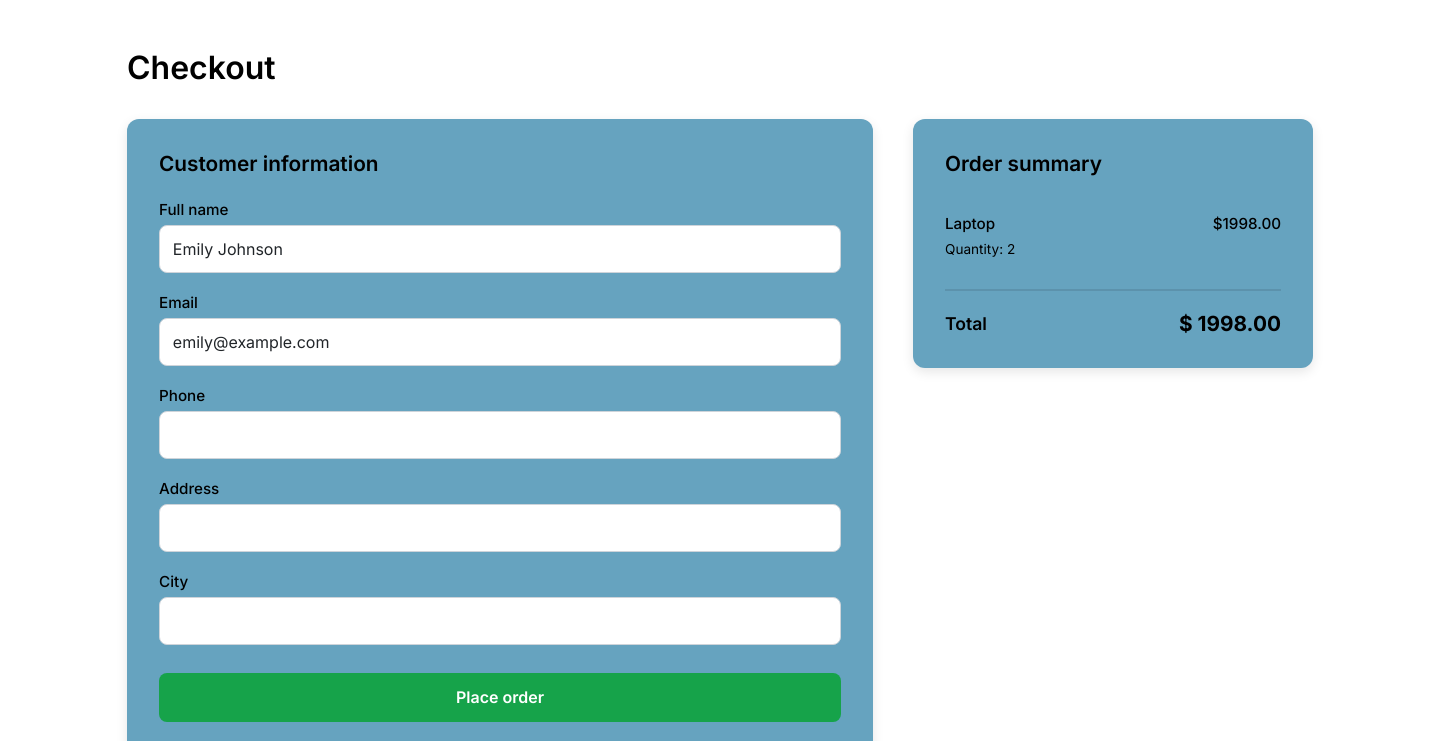
Test: Checkout › clears the validation error when the user changes a field
Clear the field labelled "Full name" at (500, 249), box [159,225,841,273]
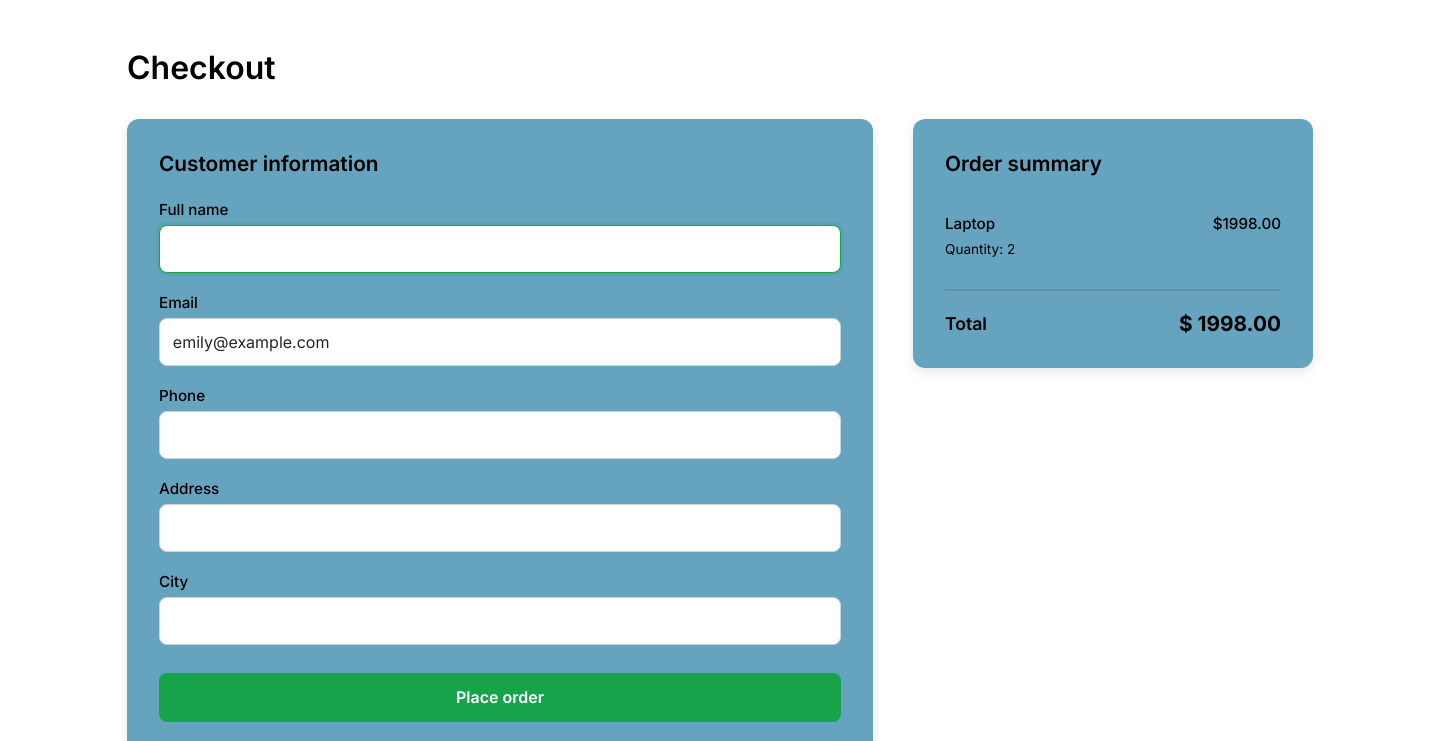
Click the button "Place order" at (500, 697), box [159,673,841,722]
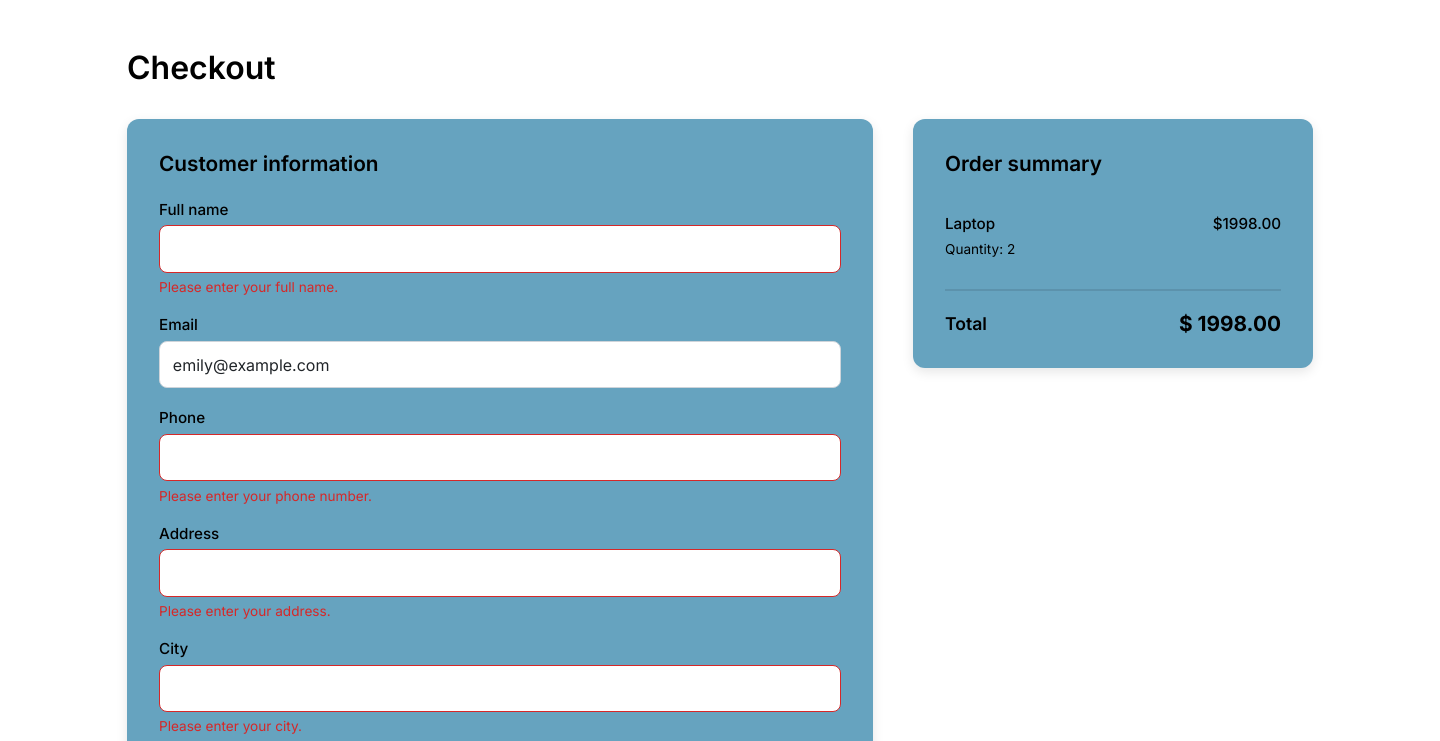
Expected: the text "Please enter your full name." is shown, [159,279,338,295]
Type "John Doe" into the field labelled "Full name" at (500, 249), box [159,225,841,273]
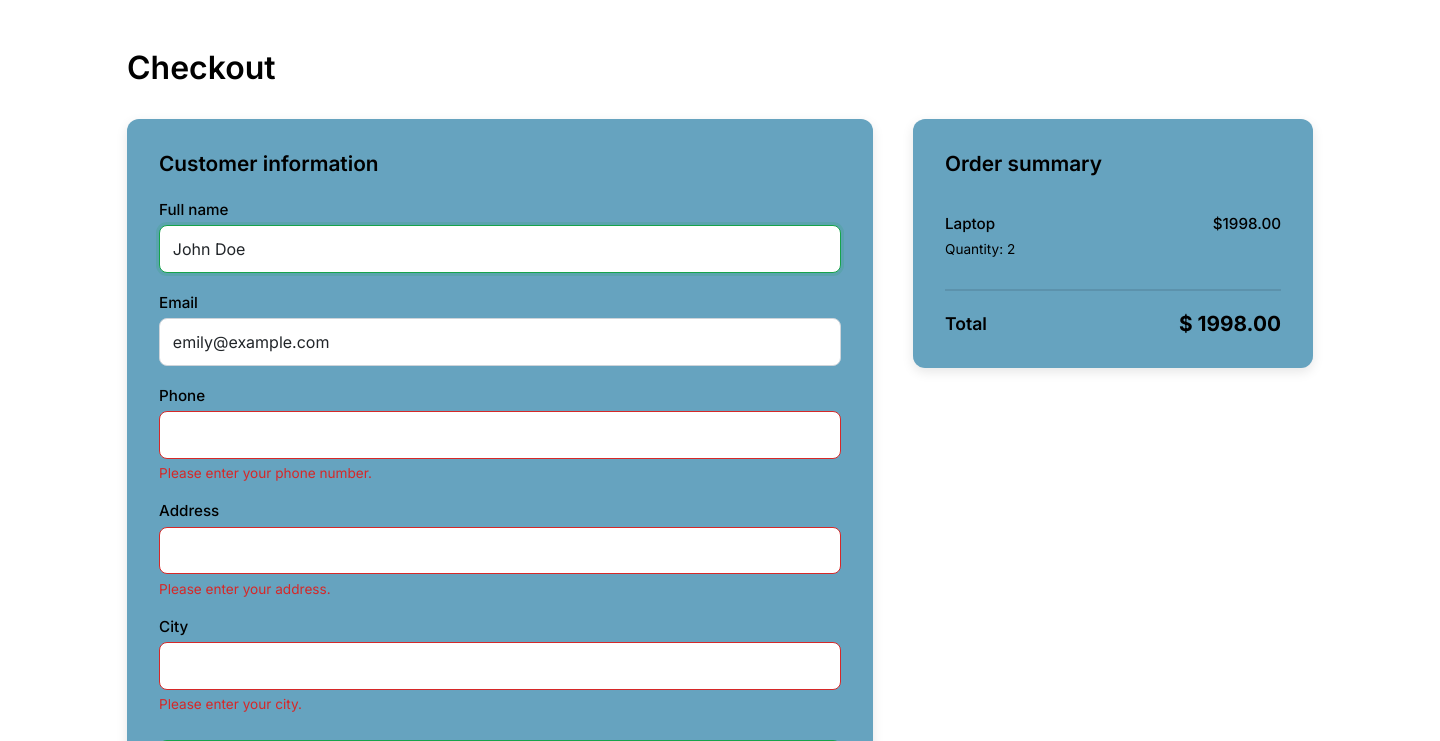
Expected: the text "Please enter your full name." is gone
